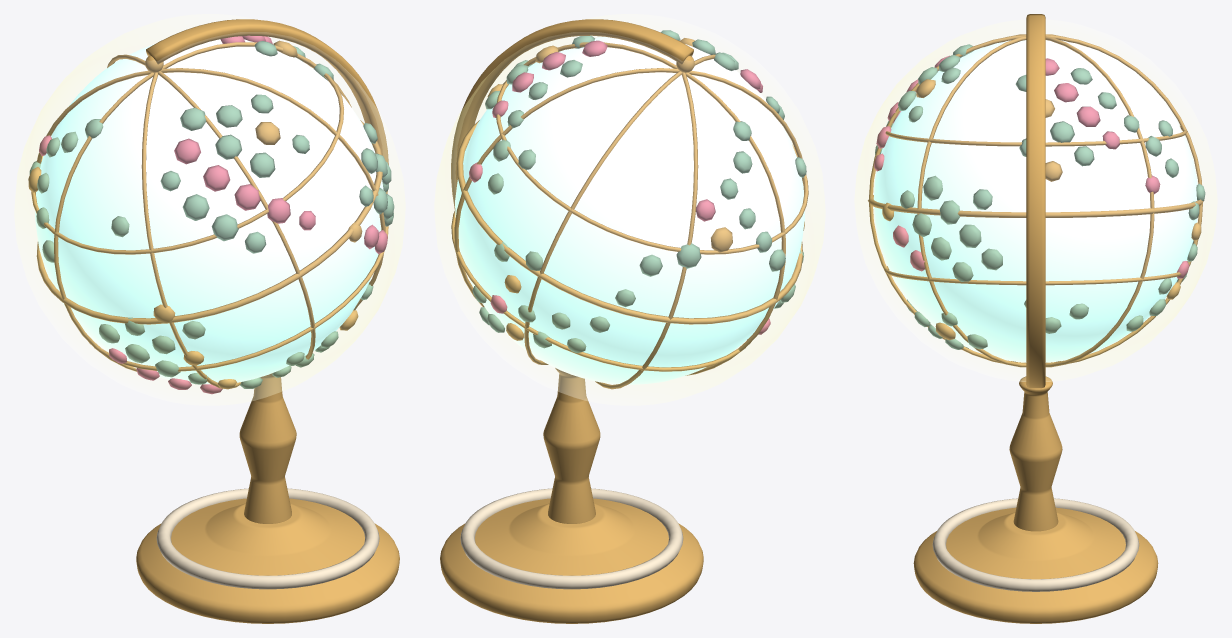
Rendered from peace-globe.glb.
The picture shows the model from 3 angles, left to right: view 1: azimuth 30°, elevation 25°; view 2: azimuth 150°, elevation 25°; view 3: azimuth 270°, elevation 25°; orthographic projection. The views are drawn at different scales.
Visible parts, largest first — view 1: PeaceGlobe; view 2: PeaceGlobe; view 3: PeaceGlobe.
Boxes of the visible parts, bbox=[...] form: PeaceGlobe: bbox=[14, 14, 405, 623]; PeaceGlobe: bbox=[434, 14, 825, 623]; PeaceGlobe: bbox=[854, 14, 1217, 623].
Bounding box in the file's own units: 1.91 × 2.95 × 1.88.
